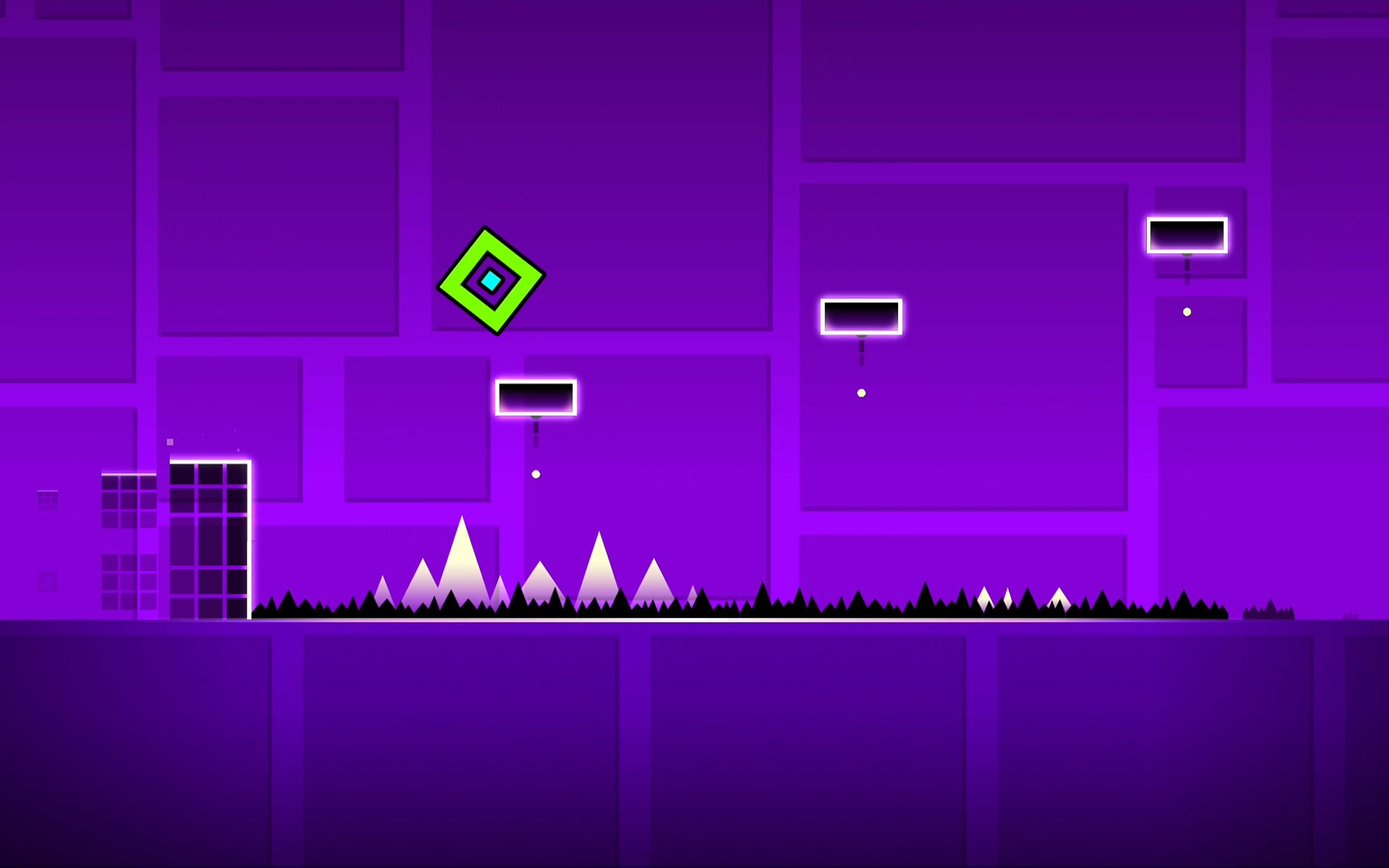Block2: (96, 463, 250, 617)
Block3: (820, 298, 905, 335), (494, 378, 578, 415), (1145, 217, 1227, 253)
Player: (435, 226, 544, 330)
Spike3: (245, 580, 1366, 621)
